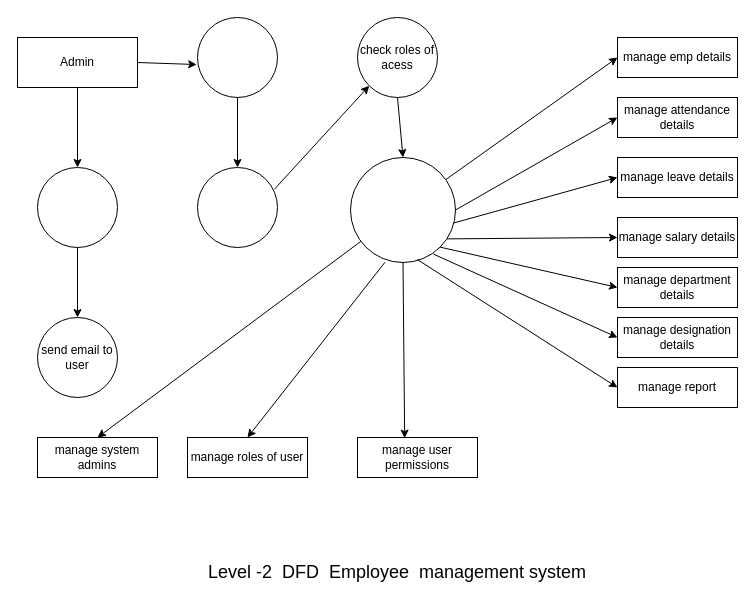
Image size: 755x605. Some labels were removed from this diagram. Each missing label, with the box of its shape:
check credentials: (196, 166, 278, 248)
forgot password: (36, 166, 118, 248)
login to system: (196, 16, 278, 98)
manage modules: (350, 156, 456, 262)
